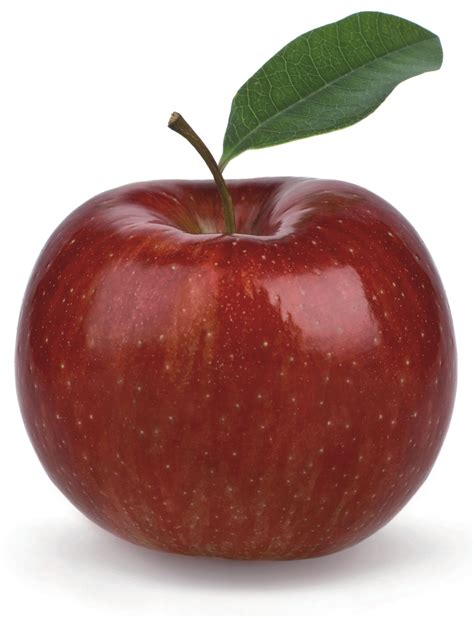apple: (1, 55, 474, 566)
